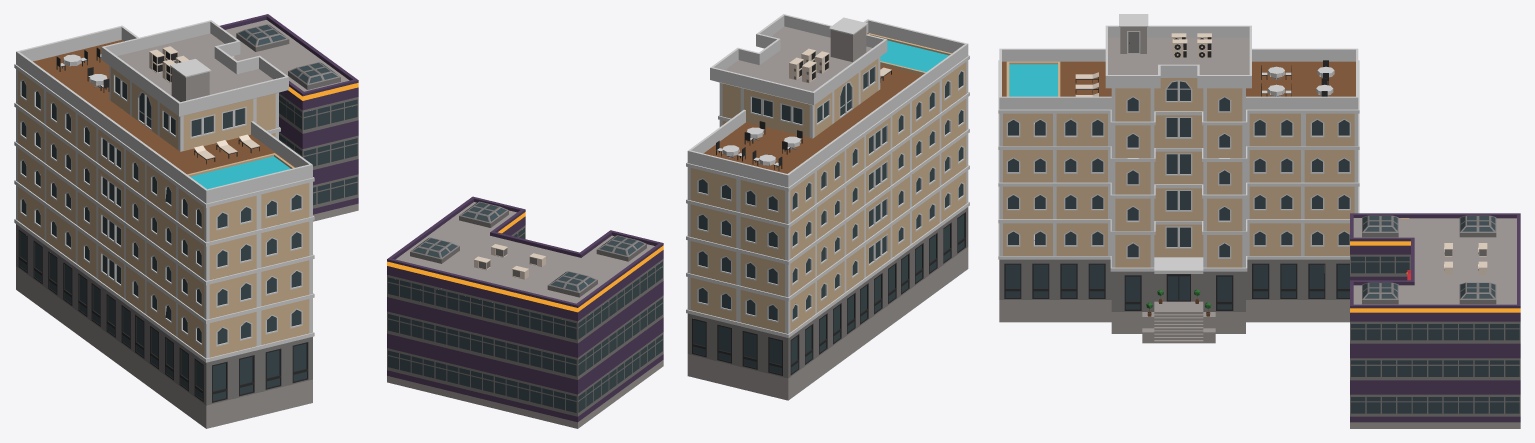
The model's file is resort-buildings.glb.
The picture shows the model from 3 angles, left to right: view 1: azimuth 30°, elevation 25°; view 2: azimuth 150°, elevation 25°; view 3: azimuth 270°, elevation 25°; orthographic projection. The views are drawn at different scales.
Parts seen in each view (by area): view 1: building-hotel, building-casino.001; view 2: building-hotel, building-casino.001; view 3: building-hotel, building-casino.001.
Part boxes in pixels (box(x1,y1,x2,y2)): building-hotel: box(14, 20, 314, 428); building-casino.001: box(220, 14, 358, 221); building-hotel: box(686, 14, 969, 400); building-casino.001: box(387, 196, 663, 428); building-hotel: box(998, 14, 1359, 343); building-casino.001: box(1350, 213, 1520, 428).
Bounding box in the file's own units: 30.27 × 25.21 × 42.81.
